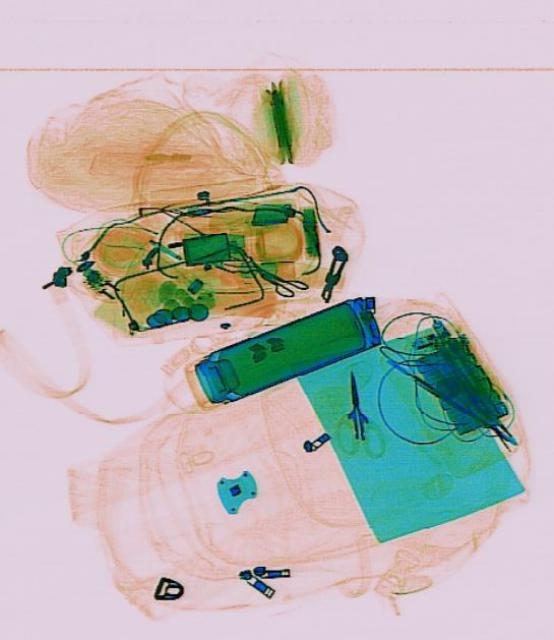Knife: (338, 367, 369, 441)
